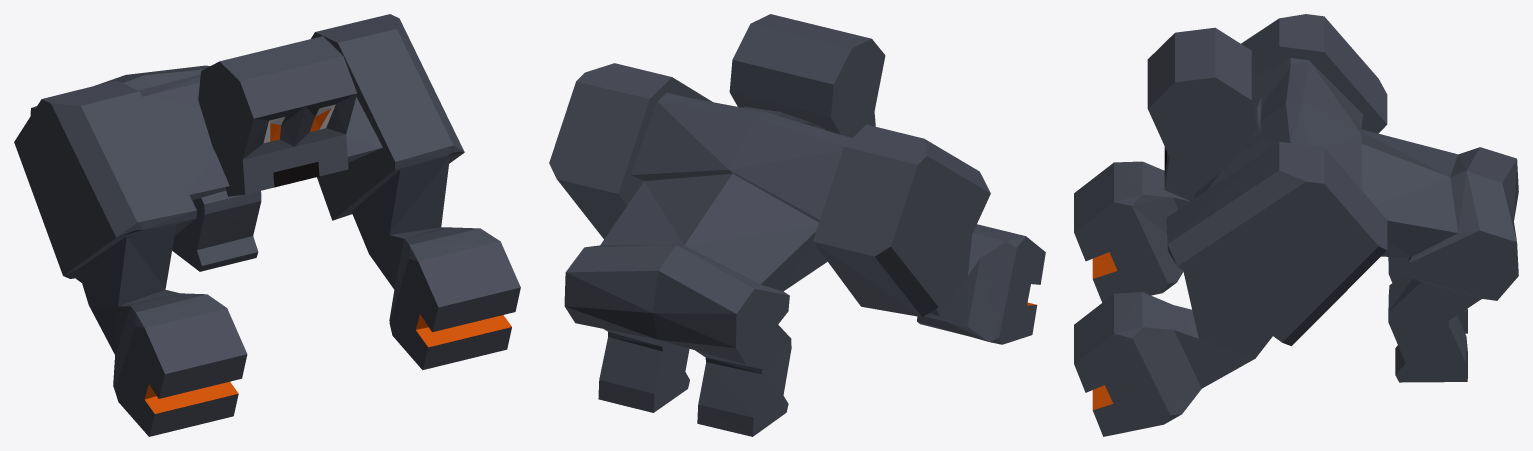
Rendered from kong_000021.obj.
3 views of the same model, side by side, from view 1: azimuth 30°, elevation 25°; view 2: azimuth 150°, elevation 25°; view 3: azimuth 270°, elevation 25° (orthographic). The views are drawn at different scales.
Visible parts, largest first — view 1: Cube; view 2: Cube; view 3: Cube.
Part boxes in pixels (x1,y1,x2,y2): Cube: [14, 14, 520, 436]; Cube: [549, 14, 1045, 436]; Cube: [1074, 14, 1518, 436].
Bounding box in the file's own units: 5.84 × 4.72 × 6.38.
Materials: 1 (1 with a texture image).
